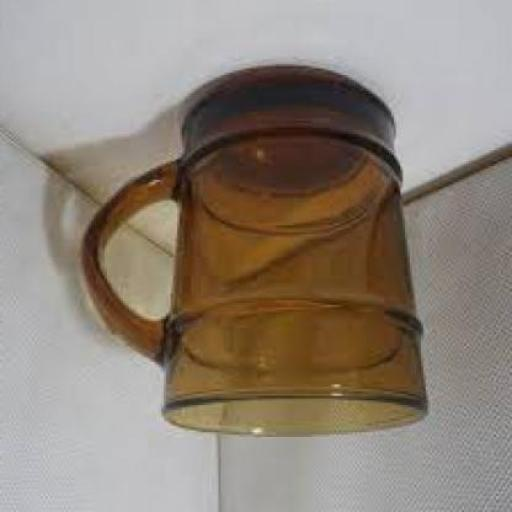glass: (82, 66, 430, 441)
